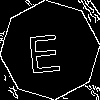E: (25, 25, 62, 74)
